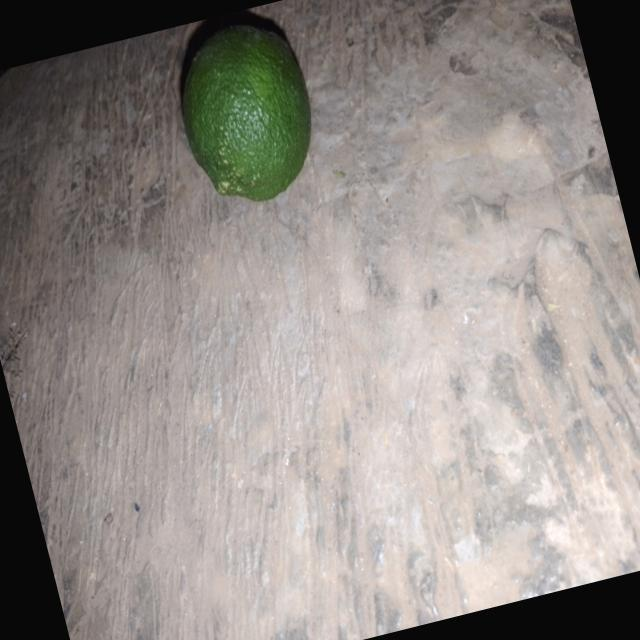Unripe: (135, 0, 340, 237)
